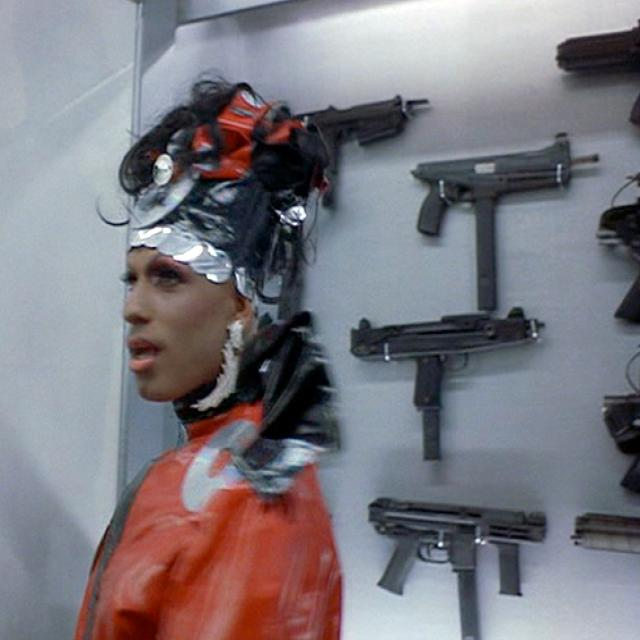rifle: (343, 298, 560, 478), (413, 123, 612, 318), (357, 493, 555, 640)
